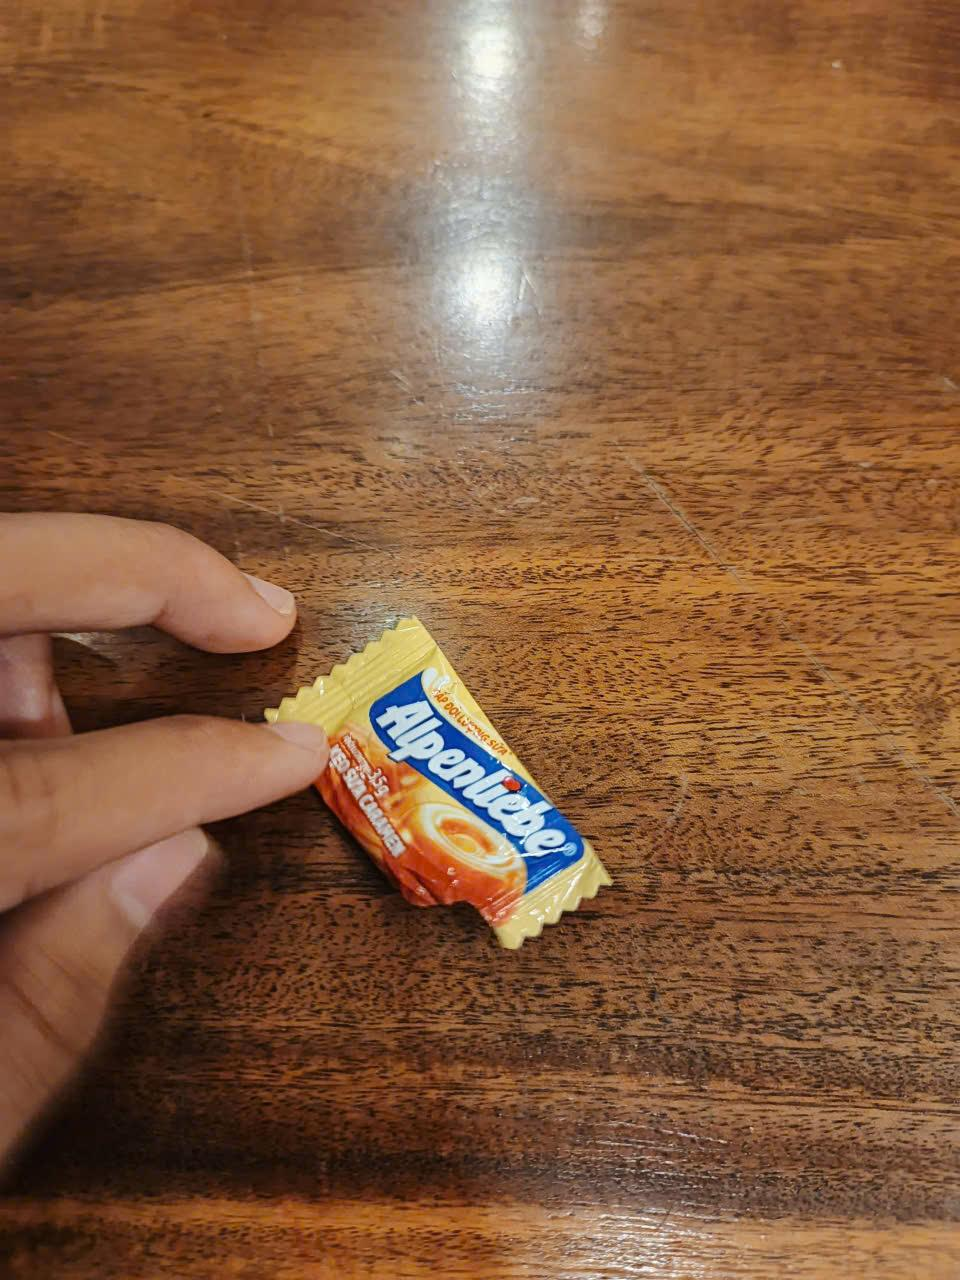Con lai: (260, 613, 614, 950)
